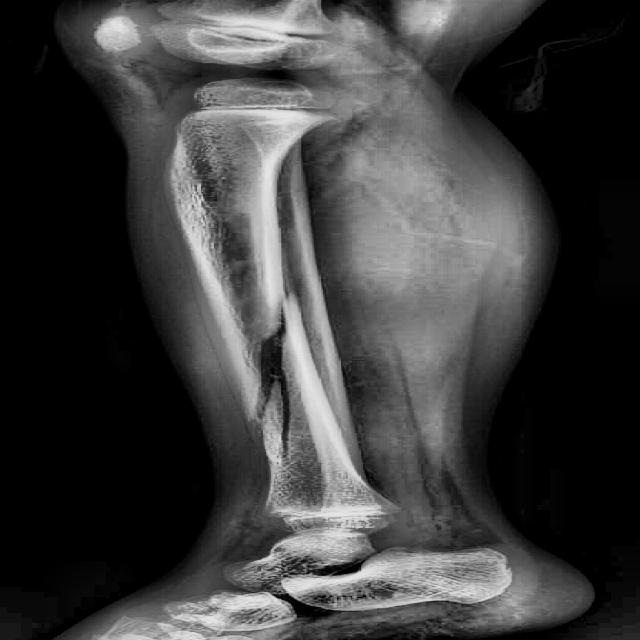line: (232, 300, 308, 463)
